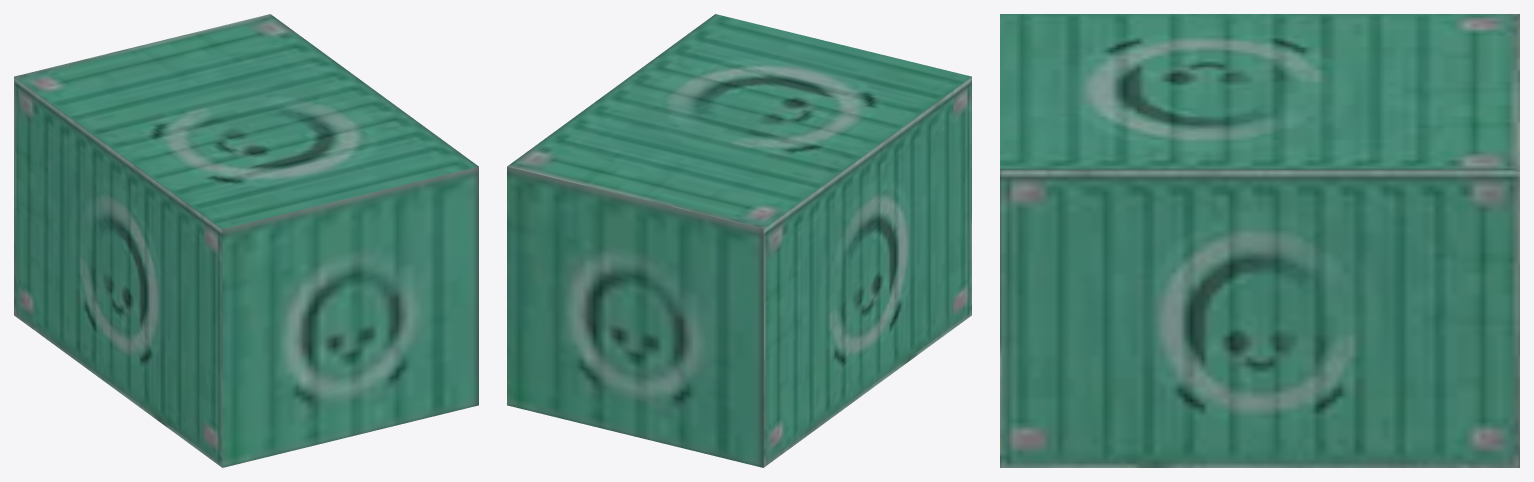
File: kenney-retro-urban-truck-green-cargo.glb
3 views of the same model, side by side, from view 1: azimuth 30°, elevation 25°; view 2: azimuth 150°, elevation 25°; view 3: azimuth 270°, elevation 25° (orthographic). The views are drawn at different scales.
Visible parts, largest first — view 1: truck-green-cargo; view 2: truck-green-cargo; view 3: truck-green-cargo.
Part boxes in pixels (x1,y1,x2,y2): truck-green-cargo: (14,14,478,467); truck-green-cargo: (507,14,971,467); truck-green-cargo: (1000,14,1519,467).
Bounding box in the file's own units: 0.8301 × 0.7384 × 1.17.
1 material, 1 textured.
